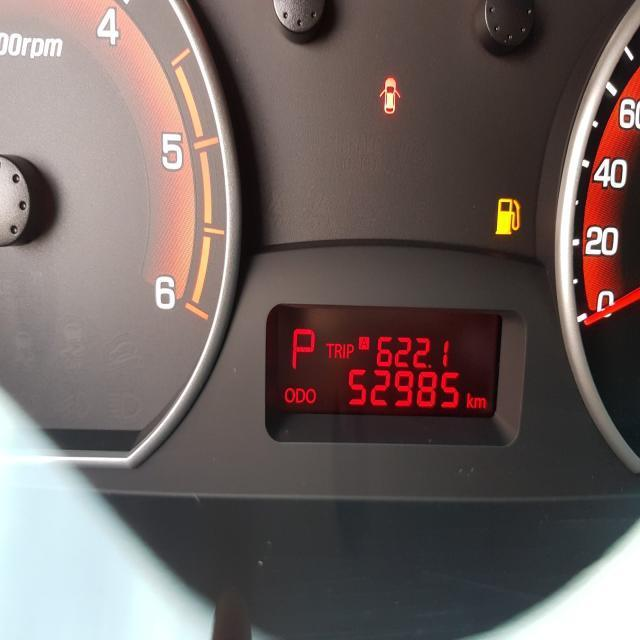Doors: (378, 76, 400, 114)
Low fuel level: (493, 197, 521, 236)
